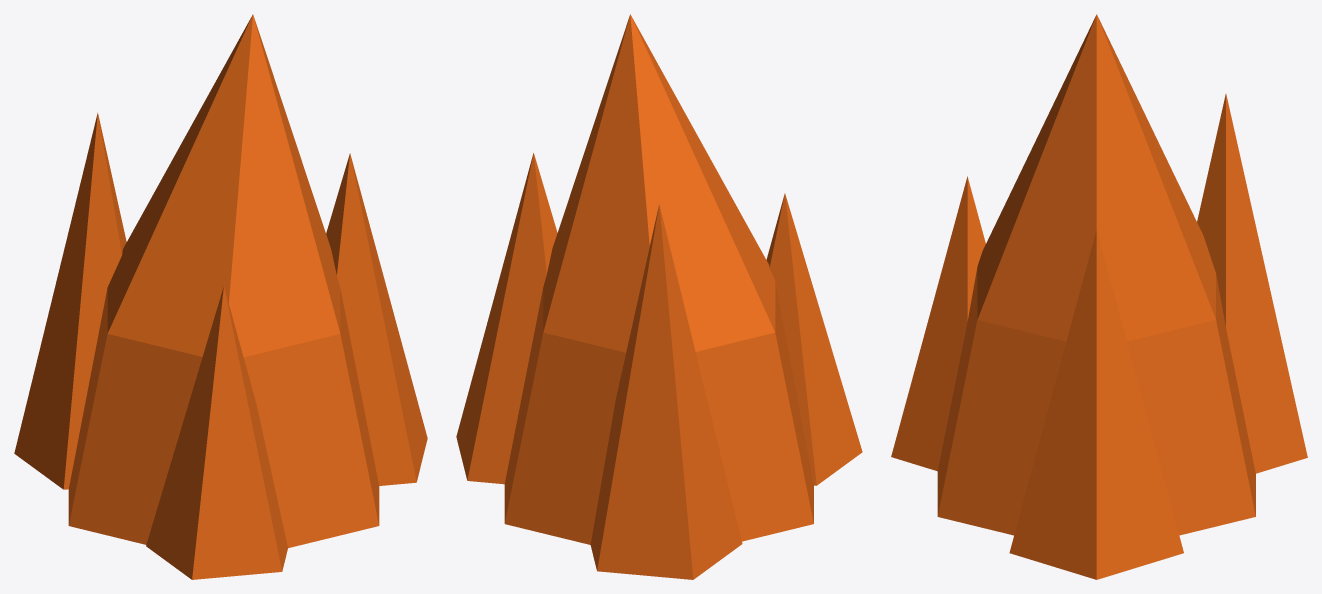
Rendered from Flame.obj.
3 renders of one model, left to right at view 1: azimuth 30°, elevation 25°; view 2: azimuth 150°, elevation 25°; view 3: azimuth 270°, elevation 25°, orthographic. The views are drawn at different scales.
Visible parts, largest first — view 1: Flame; view 2: Flame; view 3: Flame.
Boxes of the visible parts, x1,y1,x2,y2 form: Flame: (14, 14, 427, 579); Flame: (456, 14, 862, 579); Flame: (891, 14, 1307, 579).
Bounding box in the file's own units: 0.37 × 0.46 × 0.3631.
